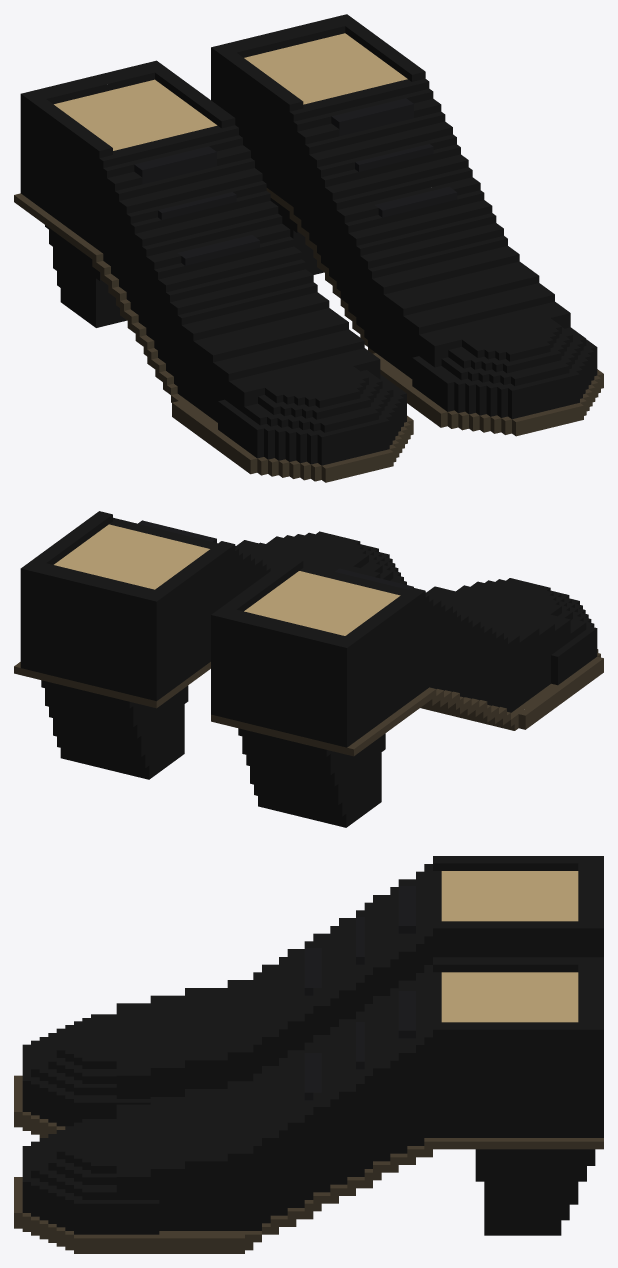
Rendered from dance_shoes.glb.
The picture shows the model from 3 angles, top to bottom: view 1: azimuth 30°, elevation 25°; view 2: azimuth 150°, elevation 25°; view 3: azimuth 270°, elevation 25°; orthographic projection. The views are drawn at different scales.
Visible parts, largest first — view 1: dance_shoes:compound; view 2: dance_shoes:compound; view 3: dance_shoes:compound.
Boxes of the visible parts, <box> form: dance_shoes:compound: <box>14,14,603,482</box>; dance_shoes:compound: <box>14,511,603,827</box>; dance_shoes:compound: <box>14,856,603,1253</box>.
Size of the model in its own units: 0.208 by 0.112 by 0.276.
